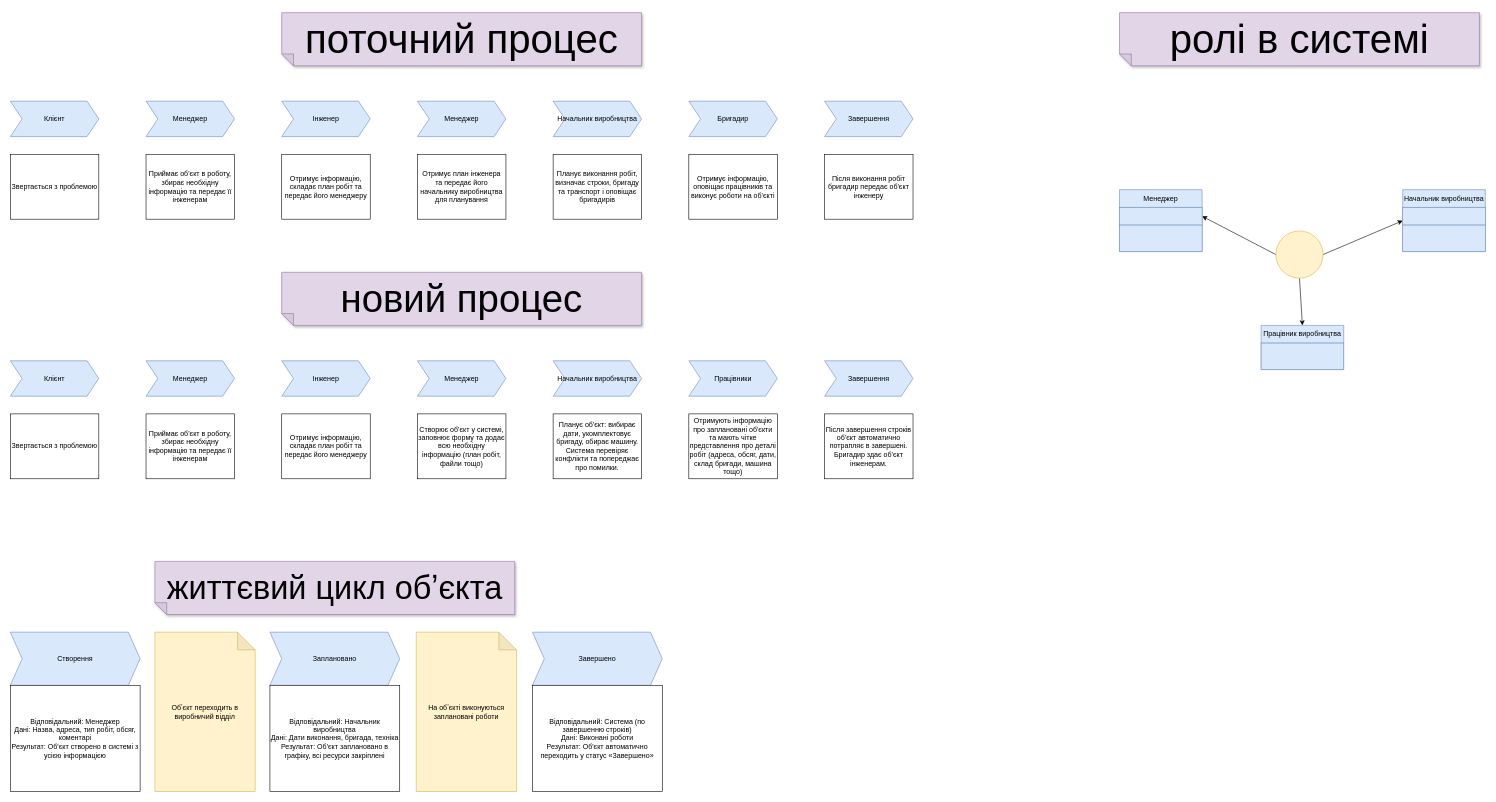
Some shapes in this 1496 by 802 pixel diagram are drawn without their labels. The shapes that lost their labels are listed below. From the top down, each one's centre as x and y in pixels, then its label:
(1160,216): Створює нові обʼєкти
(1443,216): Планує графік
(1160,238): Додає всю потрібну інформацію для планування
(1299,254): Система
(1443,238): Назначає терміни виконання робіт, бригаду та техніку
(1302,356): Отримує інформацію про обʼєкти в яких приймає участь
